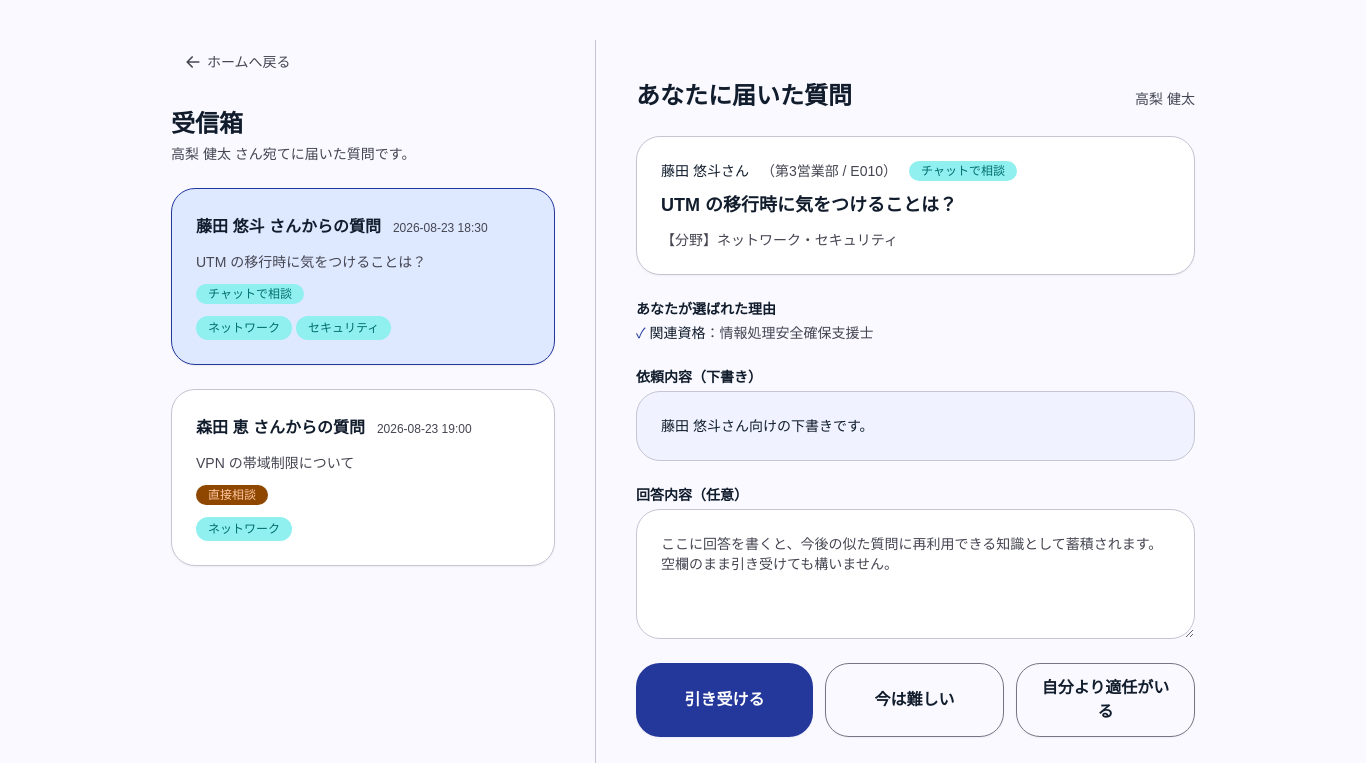
Test: InboxScreen › drops the item immediately (no lingering confirmation) when 今は難しい is clicked
Click the button "今は難しい" at (914, 700), box [825,663,1004,737]
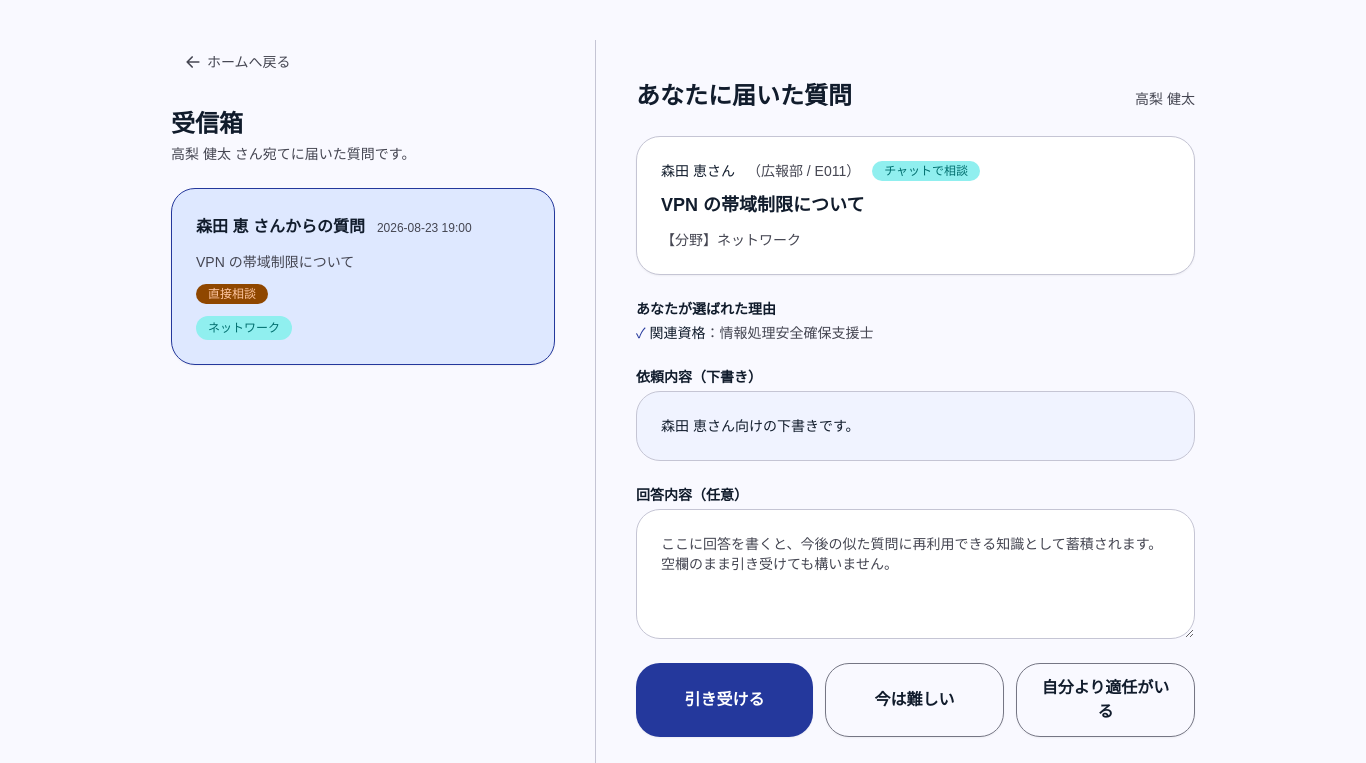
Result: the heading "VPN の帯域制限について" is shown at [661,195,864,215]
